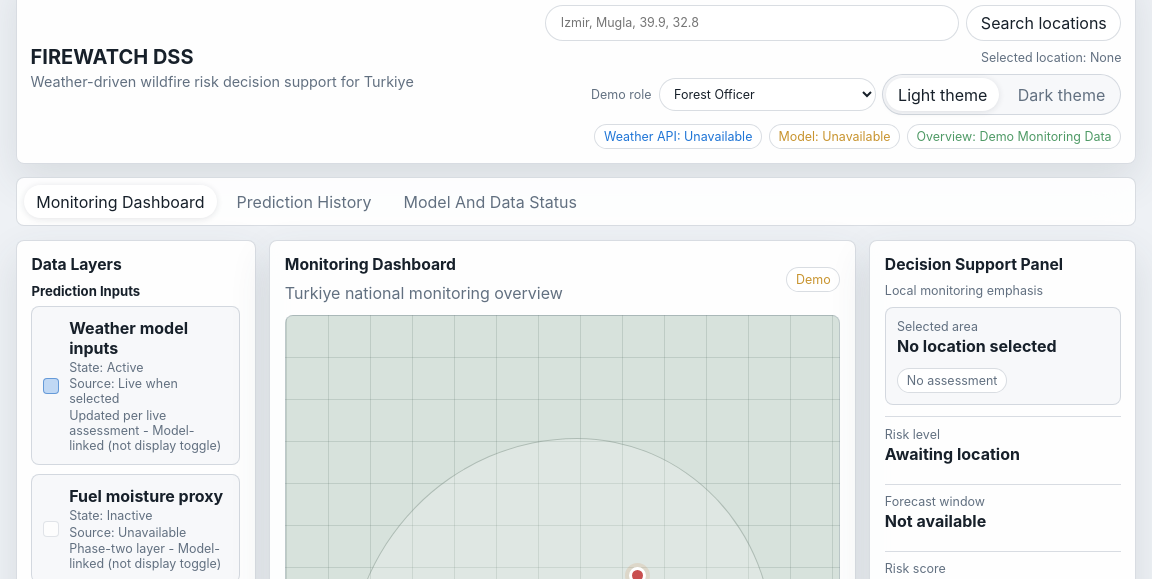
Test: FIREWATCH dashboard shell › separates model input drivers from display-only weather signals
The image size is (1152, 579).
Type "Bodrum" into the search field labelled "Location search" at (752, 23), box x1=545 y1=5 x2=959 y2=41
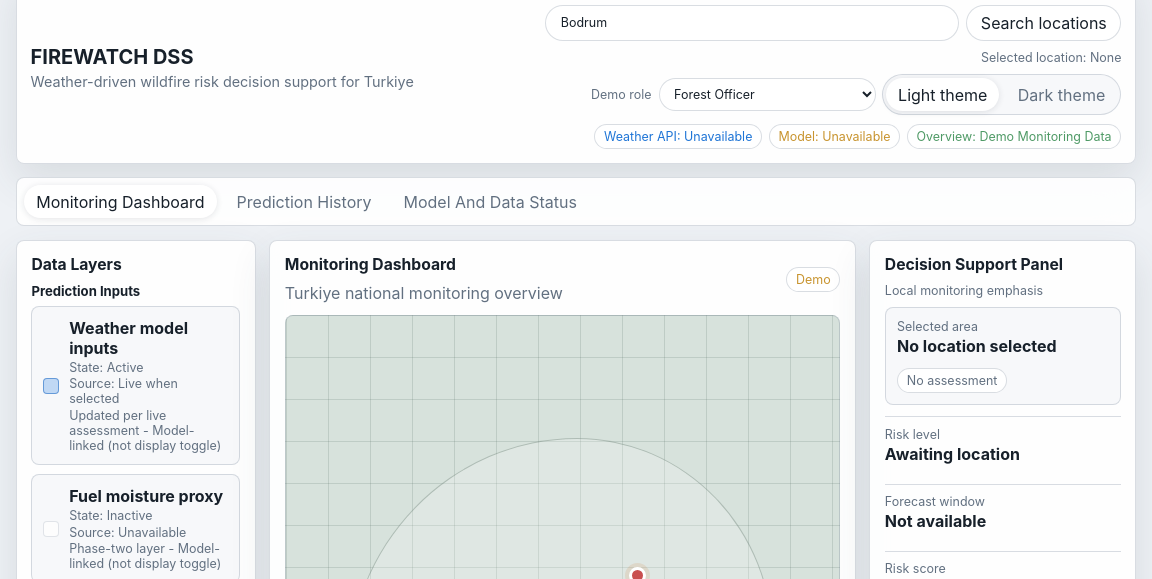
Click the button "Search locations" at (1044, 23), box x1=966 y1=5 x2=1121 y2=41
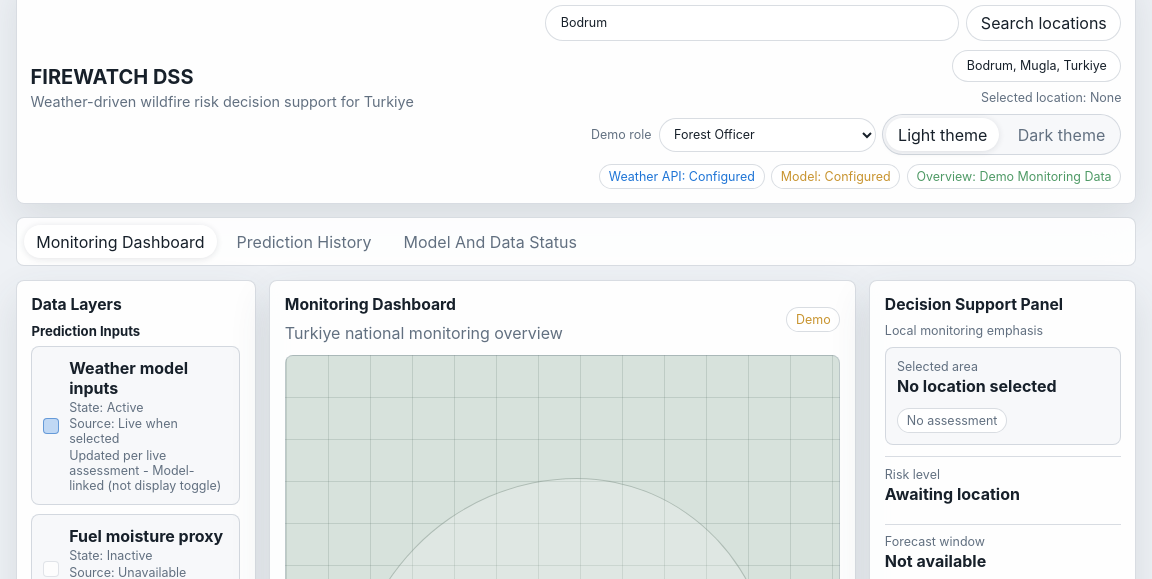
Click the button "Bodrum, Mugla, Turkiye" at (1037, 66), box x1=952 y1=50 x2=1122 y2=82
(page scrolled)
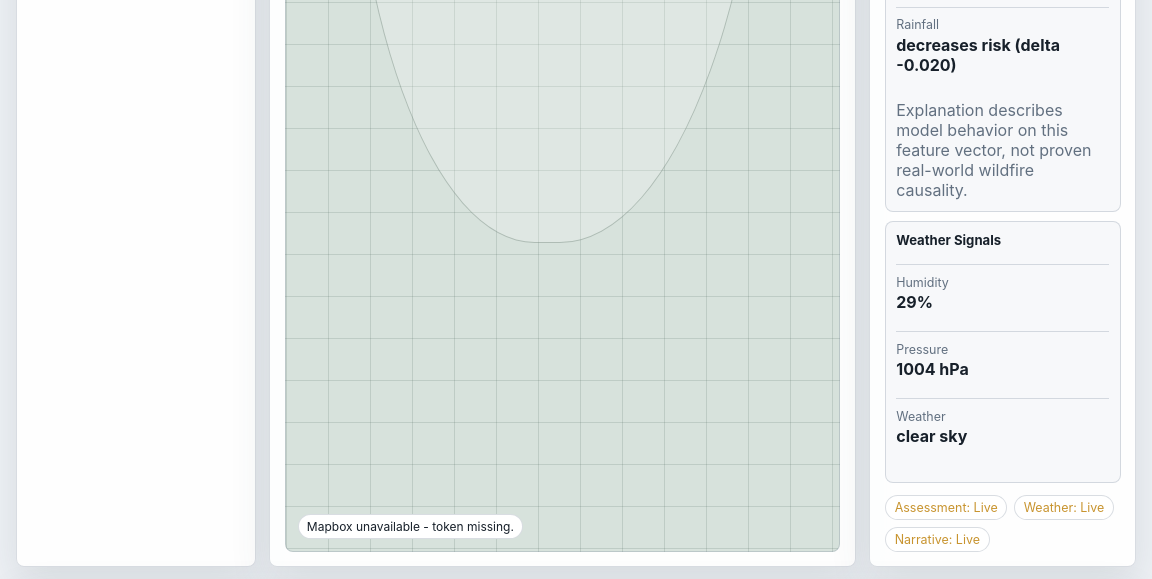
Result: the text "Rainfall" is shown at x1=896 y1=18 x2=939 y2=32
Result: the text "decreases risk (delta -0.020)" is shown at x1=896 y1=35 x2=1060 y2=75
Result: the text "not proven real-world wildfire causality" is shown at x1=896 y1=100 x2=1091 y2=200
